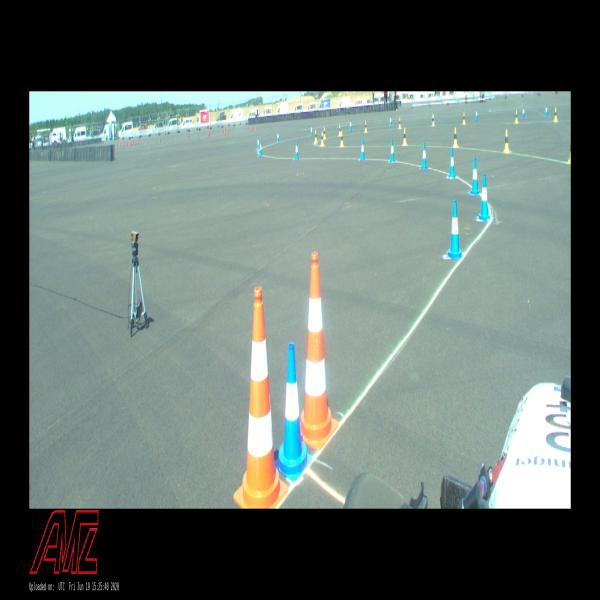blue_cone: (275, 342, 312, 482), (446, 200, 464, 260), (479, 174, 490, 221), (471, 158, 479, 194), (448, 148, 456, 178), (422, 143, 427, 169), (390, 140, 395, 162), (360, 140, 365, 160), (295, 141, 299, 160), (259, 141, 262, 156), (522, 106, 525, 119), (545, 105, 548, 117), (257, 136, 259, 150), (476, 109, 478, 120), (310, 125, 312, 136), (277, 131, 279, 142), (432, 112, 434, 123), (350, 120, 352, 130), (390, 115, 391, 126)
large_orange_cone: (234, 287, 288, 509), (300, 252, 339, 451)
yellow_cone: (504, 130, 509, 152), (453, 128, 458, 147), (403, 128, 407, 145), (568, 144, 571, 163), (340, 132, 344, 146), (554, 108, 558, 122), (320, 132, 323, 146), (462, 112, 465, 125), (314, 130, 317, 143), (515, 110, 518, 123), (323, 127, 326, 139), (432, 115, 435, 126), (339, 124, 341, 136), (365, 122, 367, 132), (399, 118, 401, 128)
